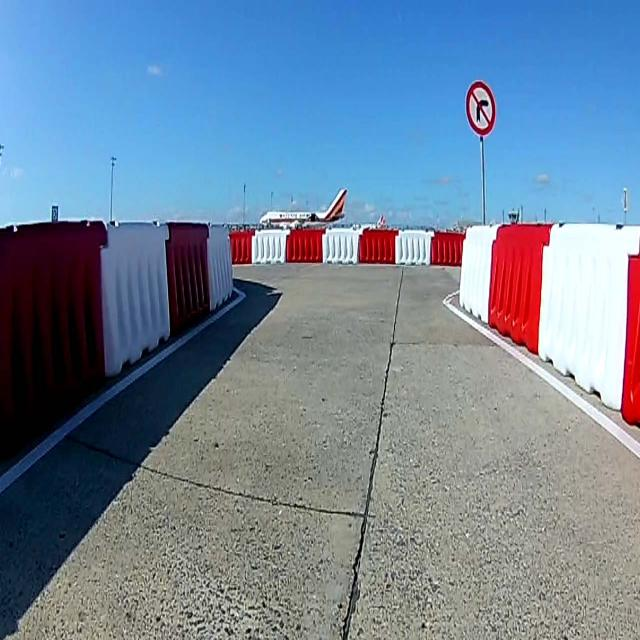sagadonulmez: (466, 80, 496, 136)
